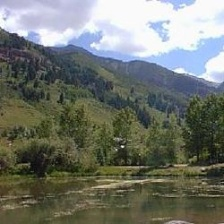neutral: (2, 2, 224, 222)
